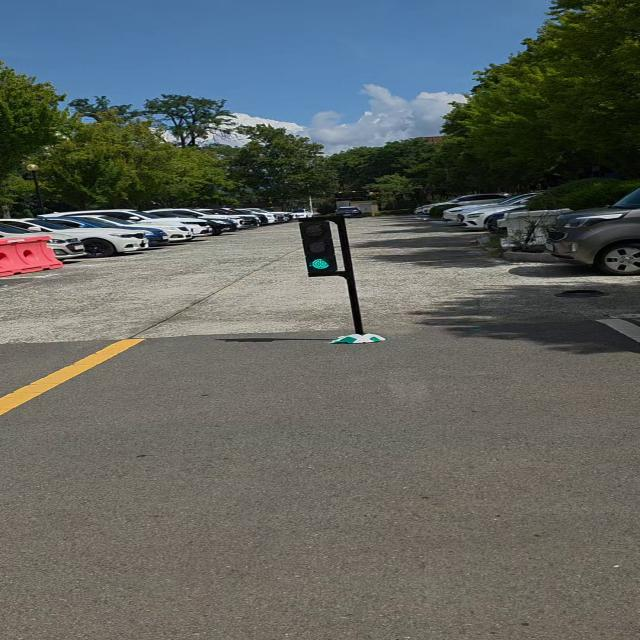green: (299, 217, 344, 276)
